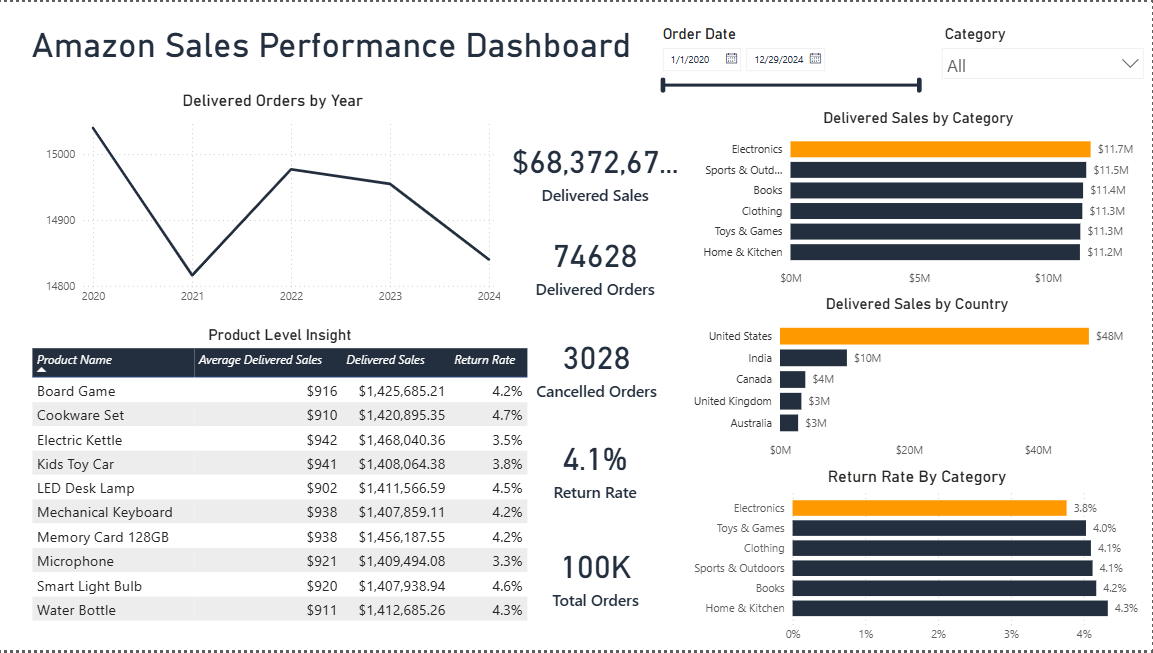

The page's visual inventory and layout, read from the dashboard file:
{"tool":"powerbi","page":{"name":"Page 1","canvas":[1280,720],"ordinal":0},"visuals":[{"type":"card","title":"Delivered Sales","fields":{"Values":["Amazon (1).Delivered Sales","select"]},"box":[561,134.4,198.2,101.9],"z":0},{"type":"card","title":"Delivered Orders","fields":{"Values":["Amazon (1).Delivered Orders"]},"box":[561,236.3,198.2,107.5],"z":1000},{"type":"card","title":"Return Rate","fields":{"Values":["Amazon (1).Return Rate"]},"box":[561,456.9,198.2,117.6],"z":2000},{"type":"card","title":"Cancelled Orders","fields":{"Values":["Amazon (1).Cancelled Orders"]},"box":[563.3,343.8,198.2,119.8],"z":3000},{"type":"card","title":"Total Orders","fields":{"Values":["Amazon (1).Total Orders"]},"box":[563.3,574.5,196,122.1],"z":4000},{"type":"lineChart","fields":{"Y":["Amazon (1).Delivered Orders"],"Category":["Date Column.Date.Variation.Date Hierarchy.Year","Date Column.Date.Variation.Date Hierarchy.Quarter","Date Column.Date.Variation.Date Hierarchy.Month","Date Column.Date.Variation.Date Hierarchy.Day"]},"box":[45.1,97.8,515.9,246.7],"z":5000},{"type":"slicer","fields":{"Values":["Amazon (1).Order Date"]},"box":[722.8,20.5,313.3,96.3],"z":6000},{"type":"slicer","fields":{"Values":["Amazon (1).Category"]},"box":[1036.1,20.5,243.9,77],"z":7000},{"type":"textbox","box":[30.8,20.5,692,61.6],"z":8000},{"type":"tableEx","title":"Product Level Insight","fields":{"Values":["Amazon (1).Product Name","Amazon (1).Average Delivered Sales","Amazon (1).Delivered Sales","Amazon (1).Return Rate"]},"box":[30,360,561.7,336.7],"z":9000},{"type":"clusteredBarChart","fields":{"Category":["Amazon (1).Category"],"Y":["Amazon (1).Delivered Sales"]},"box":[759.3,117.6,520.7,207.2],"z":10000},{"type":"barChart","fields":{"Category":["Amazon (1).Country","Amazon (1).State"],"Y":["Amazon (1).Delivered Sales"]},"box":[758.8,324.8,521.2,191.3],"z":11000},{"type":"clusteredBarChart","title":"Return Rate By Category","fields":{"Category":["Amazon (1).Category"],"Y":["Amazon (1).Return Rate"]},"box":[758.8,516.1,521.2,204.1],"z":12000}]}

Visuals, with their boxes in screenshot pixels (x1, y1, x2, y2), scaled from the page's 1280x720 canvas onto the 1153x653 screenshot:
"Delivered Sales" card: {"x1": 505, "y1": 122, "x2": 684, "y2": 214}
"Delivered Orders" card: {"x1": 505, "y1": 214, "x2": 684, "y2": 312}
"Return Rate" card: {"x1": 505, "y1": 414, "x2": 684, "y2": 521}
"Cancelled Orders" card: {"x1": 507, "y1": 312, "x2": 686, "y2": 420}
"Total Orders" card: {"x1": 507, "y1": 521, "x2": 684, "y2": 632}
lineChart - Amazon (1).Delivered Orders x Date Column.Date.Variation.Date Hierarchy.Year: {"x1": 41, "y1": 89, "x2": 505, "y2": 312}
slicer - Amazon (1).Order Date: {"x1": 651, "y1": 19, "x2": 933, "y2": 106}
slicer - Amazon (1).Category: {"x1": 933, "y1": 19, "x2": 1152, "y2": 88}
textbox: {"x1": 28, "y1": 19, "x2": 651, "y2": 74}
"Product Level Insight" tableEx: {"x1": 27, "y1": 326, "x2": 533, "y2": 632}
clusteredBarChart - Amazon (1).Category x Amazon (1).Delivered Sales: {"x1": 684, "y1": 107, "x2": 1152, "y2": 295}
barChart - Amazon (1).Country x Amazon (1).State: {"x1": 684, "y1": 295, "x2": 1152, "y2": 468}
"Return Rate By Category" clusteredBarChart: {"x1": 684, "y1": 468, "x2": 1152, "y2": 652}
